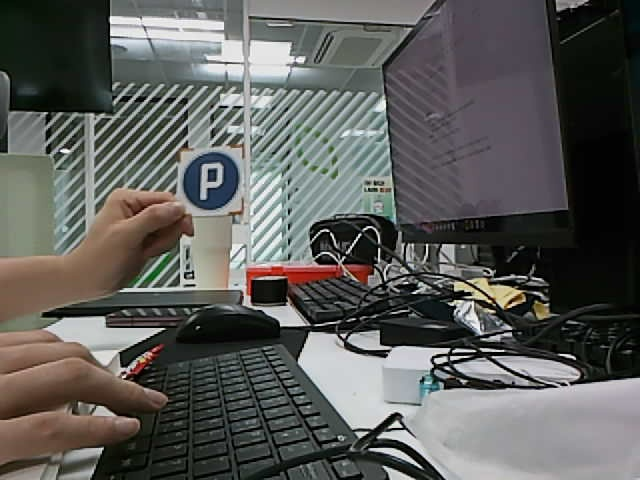park: (184, 153, 239, 211)
